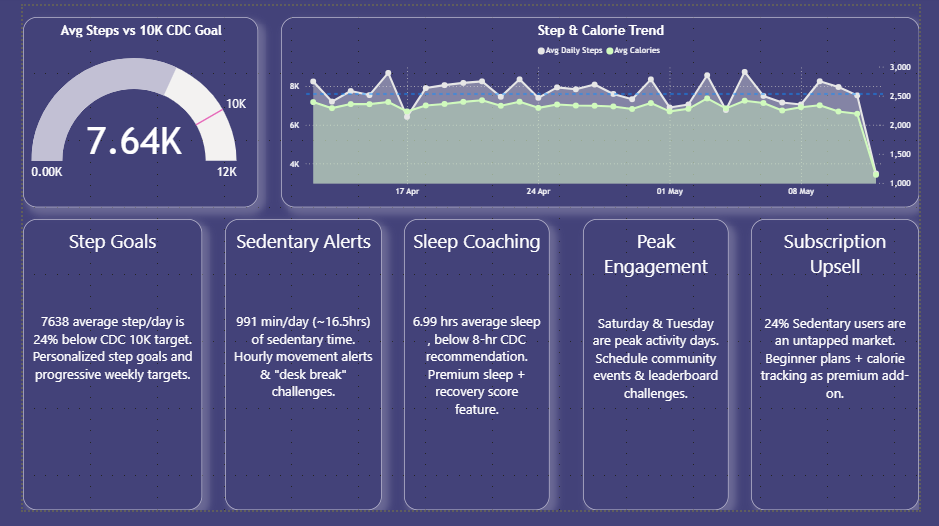

What the dashboard file says about the page in this screenshot:
{"tool":"powerbi","page":{"name":"Page 3","canvas":[1280,720],"ordinal":2},"visuals":[{"type":"gauge","title":"Avg Steps vs 10K CDC Goal","fields":{"Y":["dailySteps_merged.Avg Daily Steps"],"TargetValue":["dailySteps_merged.StepGoal"],"MaxValue":["dailySteps_merged.Maximum Steps"]},"box":[0,16,336,272],"z":0},{"type":"lineChart","title":"Step & Calorie Trend","fields":{"Category":["dailyActivity_merged.ActivityDate"],"Y":["dailySteps_merged.Avg Daily Steps"],"Y2":["dailyCalories_merged.Avg Calories"]},"box":[368,16,912,272],"z":1},{"type":"textbox","box":[0,304,256,416],"z":2},{"type":"textbox","box":[288,304,224,416],"z":3},{"type":"textbox","box":[544,304,208,416],"z":4},{"type":"textbox","box":[800,304,208,416],"z":5},{"type":"textbox","box":[1040,304,240,416],"z":6}]}

Visuals, with their boxes in screenshot pixels (x1, y1, x2, y2), scaled from the page's 1280x720 canvas onto the 939x526 screenshot:
"Avg Steps vs 10K CDC Goal" gauge: x1=0, y1=12, x2=246, y2=210
"Step & Calorie Trend" lineChart: x1=270, y1=12, x2=938, y2=210
textbox: x1=0, y1=222, x2=188, y2=525
textbox: x1=211, y1=222, x2=376, y2=525
textbox: x1=399, y1=222, x2=552, y2=525
textbox: x1=587, y1=222, x2=739, y2=525
textbox: x1=763, y1=222, x2=938, y2=525
